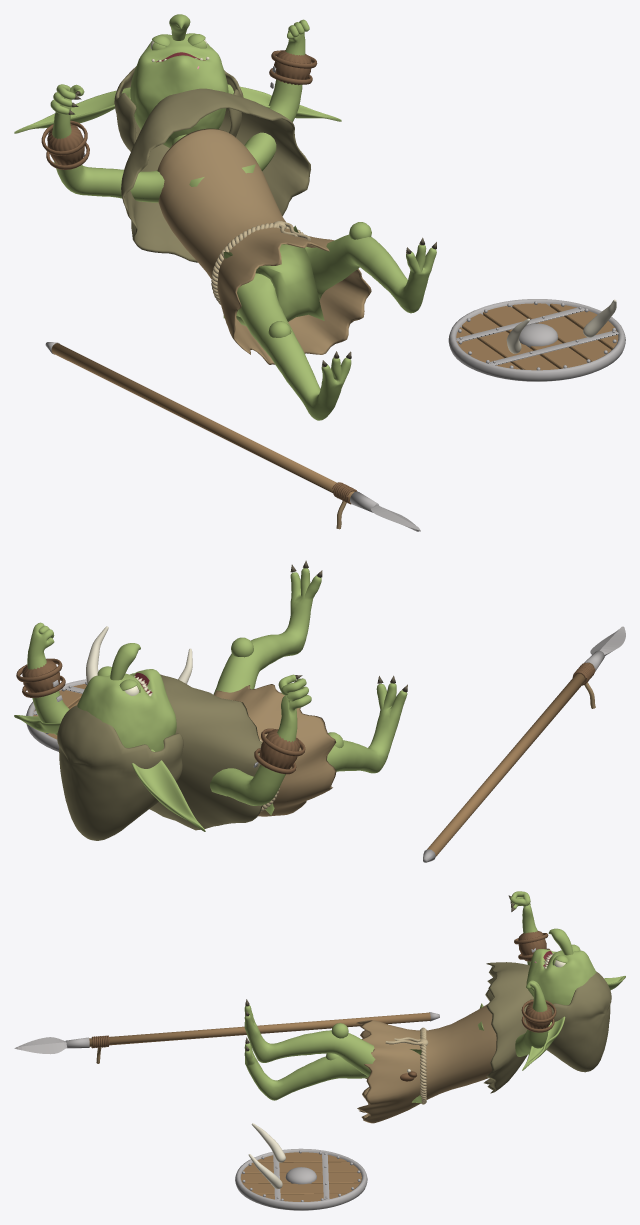
The model's file is goblin_hd_corpse.glb.
3 views of the same model, one above another, from view 1: azimuth 30°, elevation 25°; view 2: azimuth 150°, elevation 25°; view 3: azimuth 270°, elevation 25° (orthographic). The views are drawn at different scales.
Visible parts, largest first — view 1: Tunic.001, Legs.001, Cowl.001, TorsoArms.001, Head.004, Spear.002, ShieldRim.002, Hood.003, ShieldPlank_3.001, ShieldPlank_1.001, ShieldPlank_2.001, Ear_R.003 (+7 smaller); view 2: Hood.003, Cowl.001, Legs.001, Tunic.001, TorsoArms.001, Head.004, Spear.002, Ear_R.003, Bracer_R.003, Bracer_L.003, Nose.004, ShieldRim.002 (+3 smaller); view 3: Tunic.001, Legs.001, Hood.003, Cowl.001, Spear.002, Head.004, ShieldRim.002, TorsoArms.001, ShieldPlank_3.001, ShieldPlank_1.001, ShieldPlank_2.001, SpearBlade.001 (+4 smaller).
Part boxes in pixels (box(x1,y1,x2,y2)): Tunic.001: box(157, 128, 371, 364); Legs.001: box(223, 225, 436, 420); Cowl.001: box(121, 88, 310, 262); TorsoArms.001: box(50, 19, 309, 202); Head.004: box(130, 33, 228, 147); Spear.002: box(51, 343, 354, 501); ShieldRim.002: box(448, 299, 625, 381); Hood.003: box(114, 67, 243, 151); ShieldPlank_3.001: box(512, 303, 611, 361); ShieldPlank_1.001: box(462, 313, 558, 370); ShieldPlank_2.001: box(483, 306, 587, 368); Ear_R.003: box(14, 87, 130, 133); Hood.003: box(57, 705, 183, 840); Cowl.001: box(149, 674, 262, 830); Legs.001: box(213, 568, 407, 815); Tunic.001: box(214, 684, 336, 816); TorsoArms.001: box(27, 622, 311, 805); Head.004: box(77, 669, 176, 751); Spear.002: box(427, 662, 594, 856); Ear_R.003: box(131, 749, 205, 831); Bracer_R.003: box(259, 729, 300, 769); Bracer_L.003: box(22, 659, 59, 692); Nose.004: box(110, 643, 140, 680); ShieldRim.002: box(26, 679, 86, 751); Tunic.001: box(356, 1004, 496, 1123); Legs.001: box(244, 1005, 421, 1103); Hood.003: box(530, 971, 611, 1072); Cowl.001: box(484, 962, 533, 1093); Spear.002: box(89, 1012, 430, 1046); Head.004: box(526, 949, 596, 1005); ShieldRim.002: box(235, 1148, 367, 1210); TorsoArms.001: box(478, 891, 548, 1056); ShieldPlank_3.001: box(243, 1183, 359, 1194); ShieldPlank_1.001: box(243, 1162, 358, 1173); ShieldPlank_2.001: box(241, 1172, 361, 1183); SpearBlade.001: box(14, 1037, 67, 1054).
Size of the model in its own units: 1.44 by 0.727 by 2.13.
